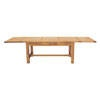obstacle: (4, 37, 95, 63)
